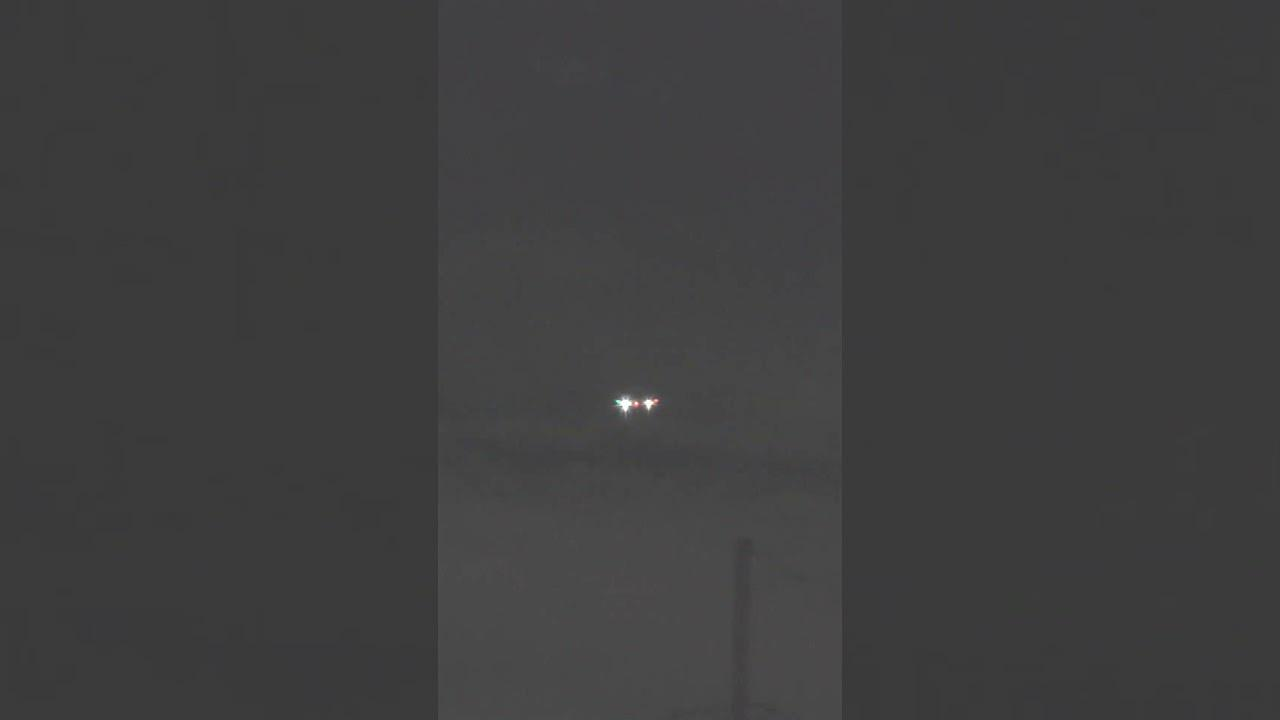Plane: (581, 381, 688, 430)
